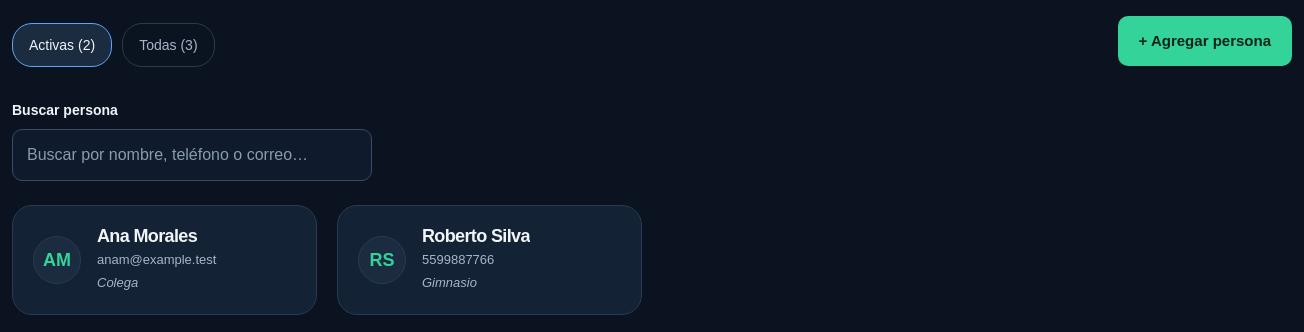
Test: PersonList › filters persons in real time by name and contact
The image size is (1304, 332).
Step 1. Type "Ana" into the field labelled "Buscar persona" → (192, 155), box [12,129,372,181]
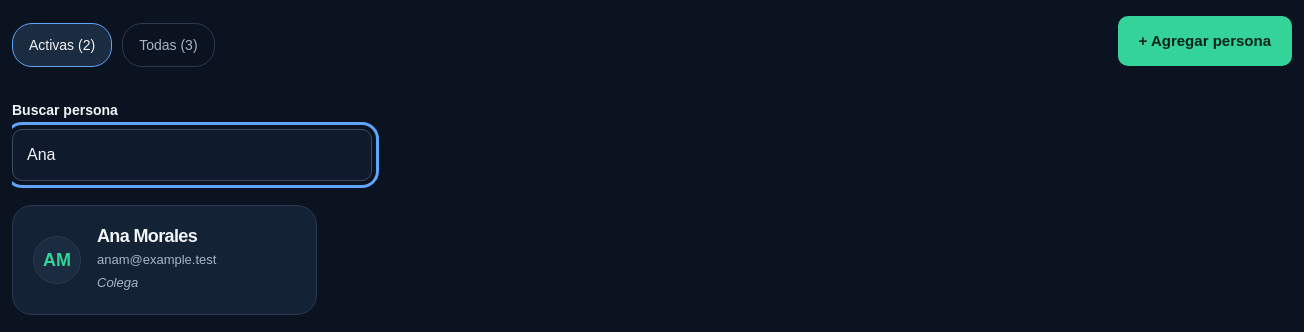
Expected: the heading "Ana Morales" is shown, [97,226,197,247]
Now the link "Roberto Silva" is gone
Step 2. Replace the text in the field labelled "Buscar persona" with "559988" → (192, 155), box [12,129,372,181]
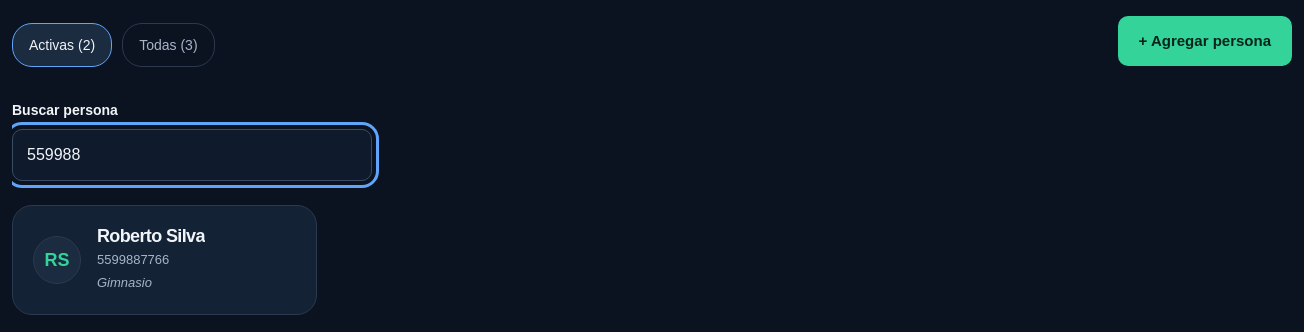
Now the heading "Roberto Silva" is shown, box [97,226,205,247]
Now the link "Ana Morales" is gone
